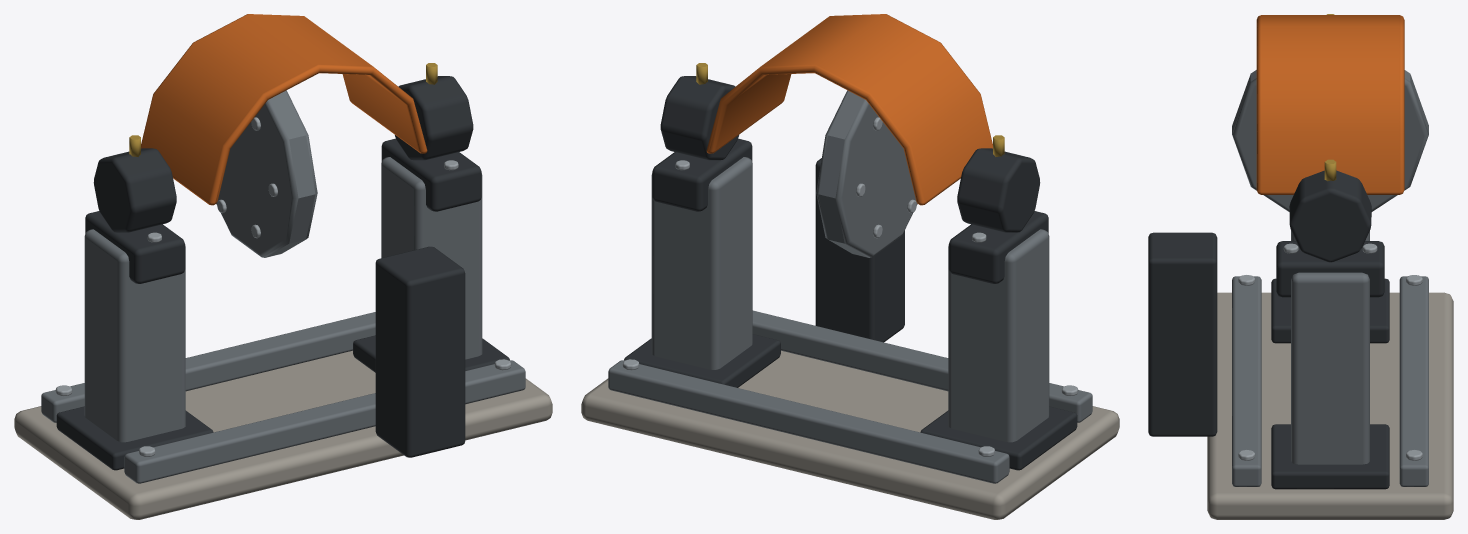
Rendered from pp_clutch.glb.
The picture shows the model from 3 angles, left to right: view 1: azimuth 30°, elevation 25°; view 2: azimuth 150°, elevation 25°; view 3: azimuth 270°, elevation 25°; orthographic projection.
Visible parts, largest first — view 1: block.001, vault, block, block.004, cyl, block.002, block.007, block.003, cyl.001, cyl.003, block.006, block.009 (+2 smaller); view 2: block.001, vault, block.007, block.004, block.003, cyl, block, block.002, cyl.001, cyl.003, block.006, block.009 (+2 smaller); view 3: vault, block.001, block.007, block, block.002, block.003, cyl.003, block.008, cyl, block.009, block.005.
Boxes of the visible parts, left/top/right/bottom form: block.001: left=14, top=350, right=552, bottom=519; vault: left=141, top=14, right=427, bottom=205; block: left=375, top=246, right=465, bottom=457; block.004: left=84, top=229, right=185, bottom=442; cyl: left=216, top=90, right=317, bottom=257; block.002: left=124, top=360, right=525, bottom=483; block.007: left=381, top=157, right=482, bottom=359; block.003: left=41, top=312, right=375, bottom=422; cyl.001: left=93, top=148, right=176, bottom=232; cyl.003: left=395, top=76, right=473, bottom=160; block.006: left=85, top=211, right=185, bottom=283; block.009: left=381, top=138, right=481, bottom=211; block.001: left=581, top=350, right=1119, bottom=519; vault: left=706, top=14, right=992, bottom=205; block.007: left=651, top=157, right=752, bottom=369; block.004: left=948, top=229, right=1049, bottom=442; block.003: left=608, top=360, right=1009, bottom=483; cyl: left=816, top=90, right=917, bottom=257; block: left=815, top=158, right=904, bottom=342; block.002: left=752, top=310, right=1092, bottom=422; cyl.001: left=957, top=148, right=1040, bottom=232; cyl.003: left=660, top=76, right=738, bottom=160; block.006: left=948, top=211, right=1048, bottom=283; block.009: left=652, top=138, right=752, bottom=211; vault: left=1256, top=15, right=1404, bottom=194; block.001: left=1207, top=292, right=1453, bottom=519; block.007: left=1291, top=272, right=1369, bottom=464; block: left=1148, top=232, right=1217, bottom=436; block.002: left=1232, top=276, right=1261, bottom=486; block.003: left=1399, top=276, right=1428, bottom=486; cyl.003: left=1289, top=170, right=1371, bottom=262; block.008: left=1271, top=424, right=1389, bottom=489; cyl: left=1232, top=70, right=1428, bottom=211; block.009: left=1276, top=241, right=1384, bottom=297; block.005: left=1271, top=278, right=1389, bottom=343.
Bounding box in the file's own units: 1 × 0.88 × 0.62.
